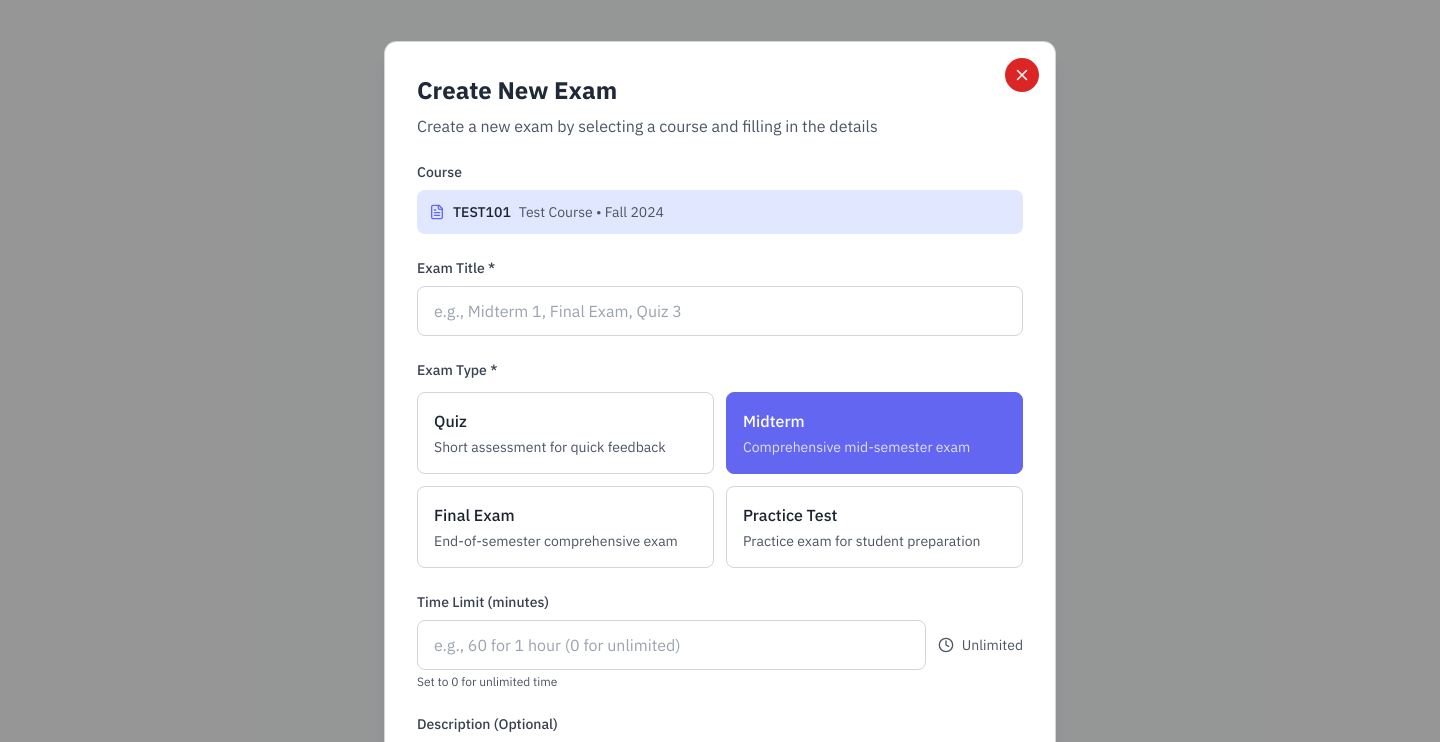
CreateExamModal › Time Limit Input Behavior › displays minutes when time is not 0
The image size is (1440, 742).
Type "90" into the number field with placeholder "e.g., 60 for 1 hour (0 for unlimited)". click: [671, 644]
box: top-left (417, 620), bottom-right (926, 670)
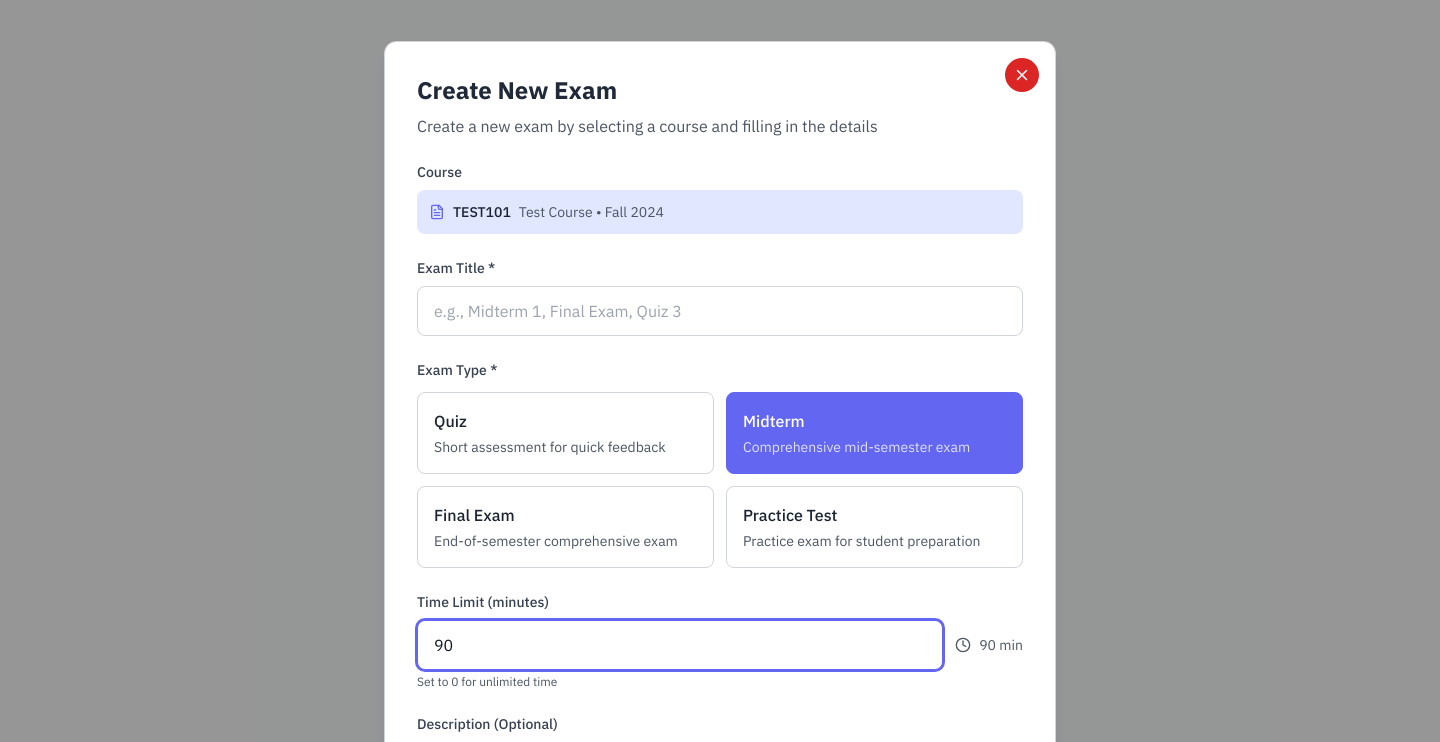
Expected: the text "90 min" is shown, top-left (979, 634), bottom-right (1023, 654)
